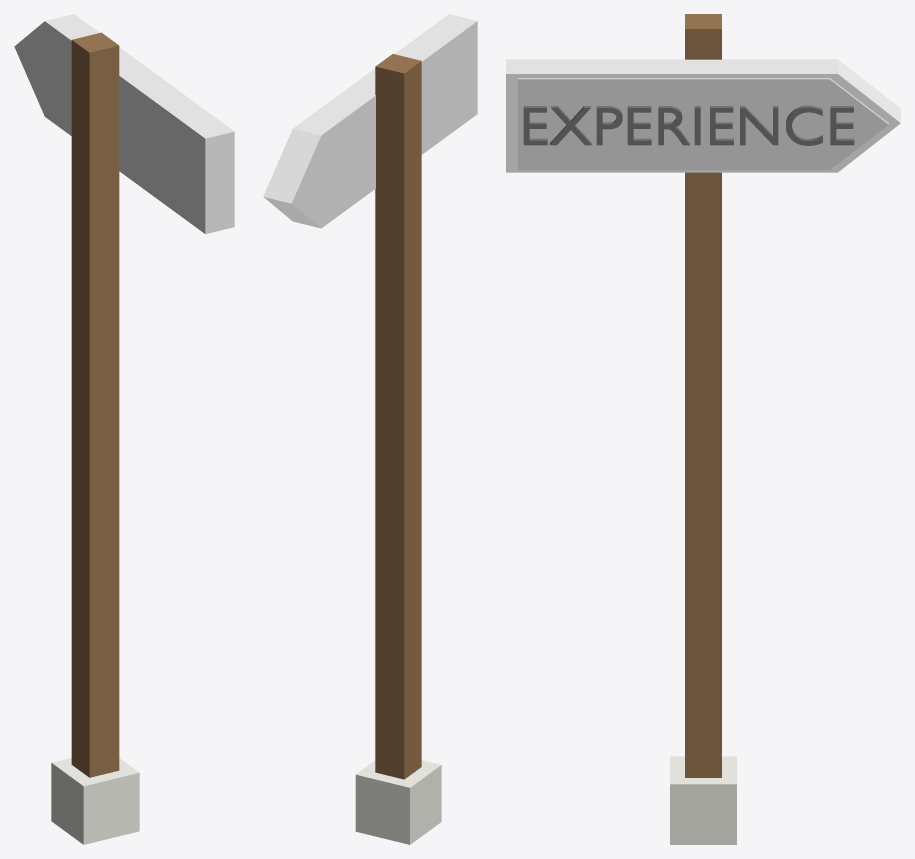
Rendered from experienceSign.glb.
3 views of the same model, side by side, from view 1: azimuth 30°, elevation 25°; view 2: azimuth 150°, elevation 25°; view 3: azimuth 270°, elevation 25° (orthographic). The views are drawn at different scales.
Parts seen in each view (by area): view 1: Cube, Cube.002, Cube.001; view 2: Cube, Cube.002, Cube.001; view 3: Cube.003, Cube, Cube.002, Text, Cube.001.
Part boxes in pixels (bbox=[...]): Cube: bbox=[71, 32, 119, 777]; Cube.002: bbox=[14, 14, 234, 234]; Cube.001: bbox=[51, 758, 139, 844]; Cube: bbox=[375, 54, 421, 779]; Cube.002: bbox=[263, 14, 477, 228]; Cube.001: bbox=[355, 760, 441, 844]; Cube.003: bbox=[518, 78, 888, 170]; Cube: bbox=[685, 14, 721, 777]; Cube.002: bbox=[506, 59, 900, 172]; Text: bbox=[523, 105, 854, 145]; Cube.001: bbox=[670, 756, 736, 844].
Size of the model in its own units: 1.19 by 11.31 by 5.
